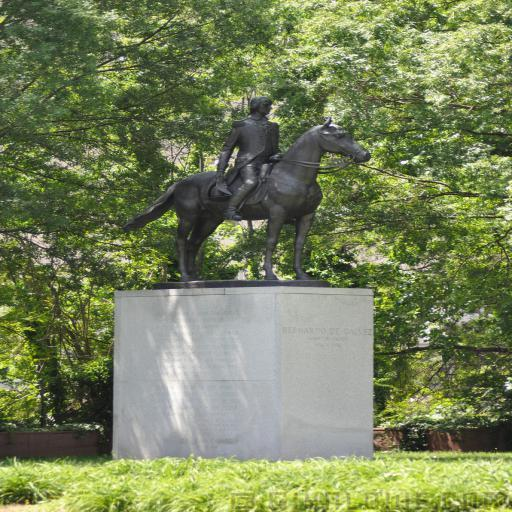horse: (122, 120, 374, 280)
